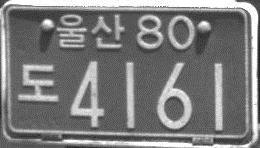0: (166, 13, 196, 53)
1: (209, 59, 228, 133), (121, 58, 138, 131)
4: (69, 58, 106, 128)
6: (156, 60, 194, 130)
8: (135, 13, 164, 52)
도: (16, 62, 60, 104)
울산_O: (55, 12, 125, 51)
